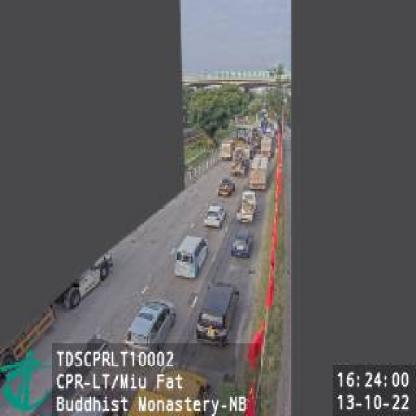Car: (122, 296, 177, 354), (196, 282, 240, 345), (171, 231, 208, 279), (230, 227, 256, 259), (203, 204, 226, 229), (219, 178, 235, 196)
Truck: (249, 150, 271, 190), (238, 187, 260, 226), (231, 146, 251, 176)
